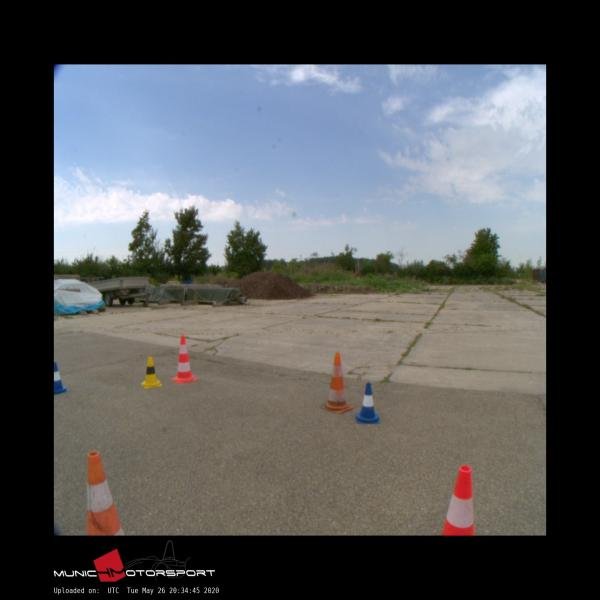blue_cone: (356, 382, 379, 422), (54, 362, 68, 394)
large_orange_cone: (320, 353, 353, 413), (172, 336, 196, 382)
yellow_cone: (140, 356, 162, 388)
